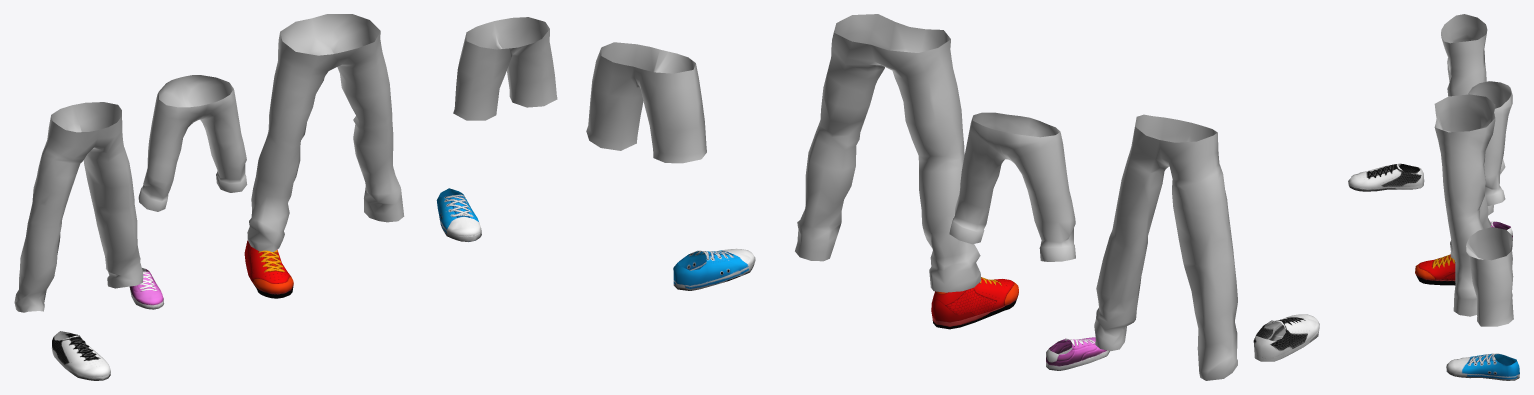
The model's file is Paint_shoes.FBX.
The picture shows the model from 3 angles, left to right: view 1: azimuth 30°, elevation 25°; view 2: azimuth 150°, elevation 25°; view 3: azimuth 270°, elevation 25°; orthographic projection. The views are drawn at different scales.
Parts seen in each view (by area): view 1: Preem_pant, Benny Bond_pant, Savy_pant (×2), Taz_short, Benny Bond_shoes, Preem_shoe, Taz_Shoes; view 2: Preem_pant, Benny Bond_pant, Savy_pant (×2), Taz_short, Preem_shoe, Taz_Shoes, Benny Bond_shoes; view 3: Preem_pant, Taz_short, Benny Bond_pant, Savy_pant, Benny Bond_shoes, Taz_Shoes, Preem_shoe.
Boxes of the visible parts, bbox=[...] form: Preem_pant: bbox=[247, 14, 404, 251]; Benny Bond_pant: bbox=[14, 102, 143, 312]; Savy_pant (×2): bbox=[129, 75, 247, 309]; Taz_short: bbox=[453, 17, 557, 120]; Benny Bond_shoes: bbox=[51, 331, 110, 380]; Preem_shoe: bbox=[244, 240, 293, 298]; Taz_Shoes: bbox=[436, 188, 481, 241]; Preem_pant: bbox=[795, 14, 980, 292]; Benny Bond_pant: bbox=[1094, 114, 1237, 380]; Savy_pant (×2): bbox=[949, 112, 1109, 370]; Taz_short: bbox=[586, 42, 706, 163]; Preem_shoe: bbox=[931, 277, 1018, 329]; Taz_Shoes: bbox=[673, 248, 755, 290]; Benny Bond_shoes: bbox=[1253, 314, 1319, 361]; Preem_pant: bbox=[1434, 94, 1495, 316]; Taz_short: bbox=[1466, 227, 1513, 326]; Benny Bond_pant: bbox=[1441, 14, 1493, 215]; Savy_pant: bbox=[1468, 81, 1512, 205]; Benny Bond_shoes: bbox=[1348, 163, 1424, 191]; Taz_Shoes: bbox=[1446, 353, 1519, 380]; Preem_shoe: bbox=[1415, 254, 1455, 285].
Size of the model in its own units: 579 by 236 by 181.
